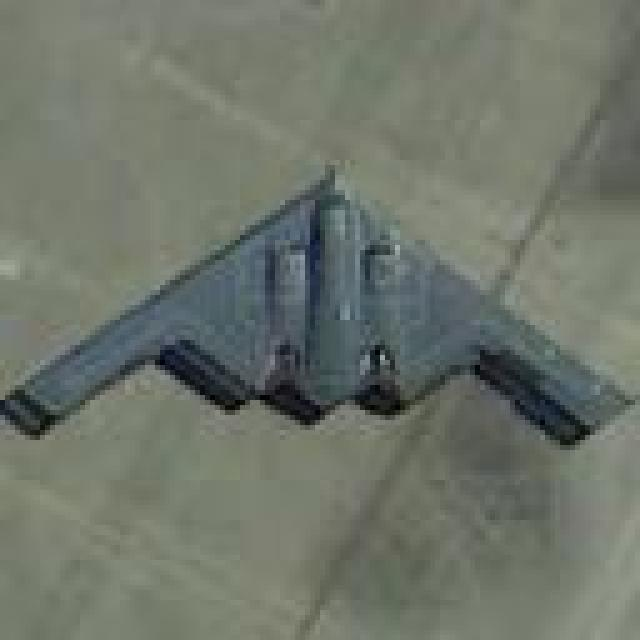B-2_TopDown: (0, 155, 635, 455)
